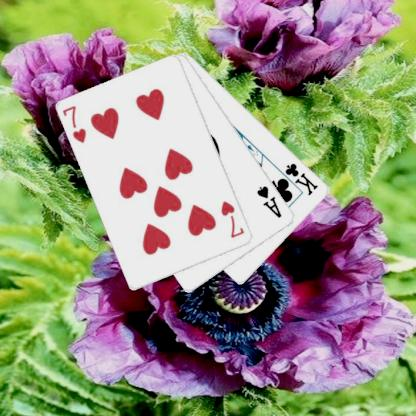7H: (60, 103, 88, 144), (219, 198, 246, 240)
AS: (254, 183, 284, 219)
KC: (275, 160, 320, 198)
